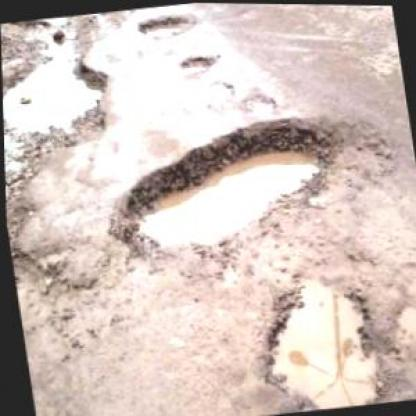pothole: (100, 99, 409, 280), (245, 262, 387, 415), (11, 242, 79, 292), (136, 7, 198, 43), (237, 89, 279, 118), (388, 297, 415, 338), (178, 51, 218, 75), (204, 76, 236, 106)
